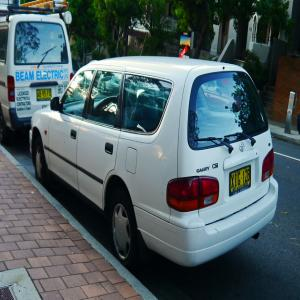Vehicle-registration-plate: (233, 166, 255, 199), (37, 89, 53, 100)
